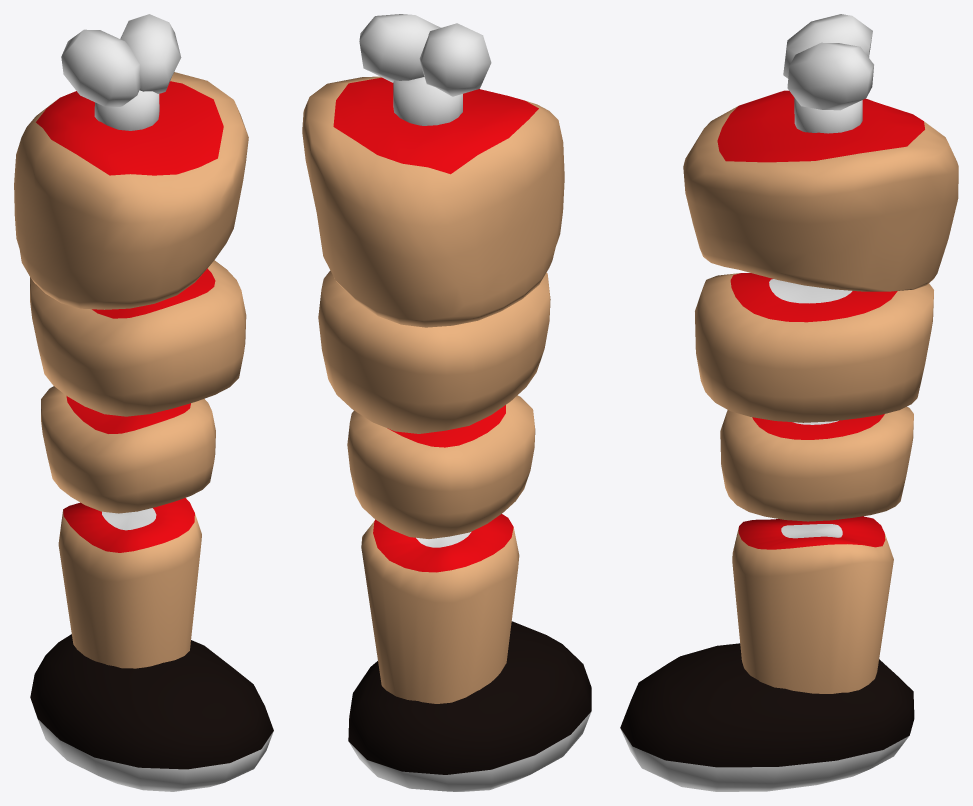
File: Leg cut.fbx
The picture shows the model from 3 angles, left to right: view 1: azimuth 30°, elevation 25°; view 2: azimuth 150°, elevation 25°; view 3: azimuth 270°, elevation 25°; orthographic projection. The views are drawn at different scales.
Visible parts, largest first — view 1: Foot.003; view 2: Foot.003; view 3: Foot.003.
Boxes of the visible parts, <box> form: Foot.003: <box>14,14,273,791</box>; Foot.003: <box>302,14,591,791</box>; Foot.003: <box>620,14,958,791</box>.
Bounding box in the file's own units: 20.52 × 66.83 × 27.84.
